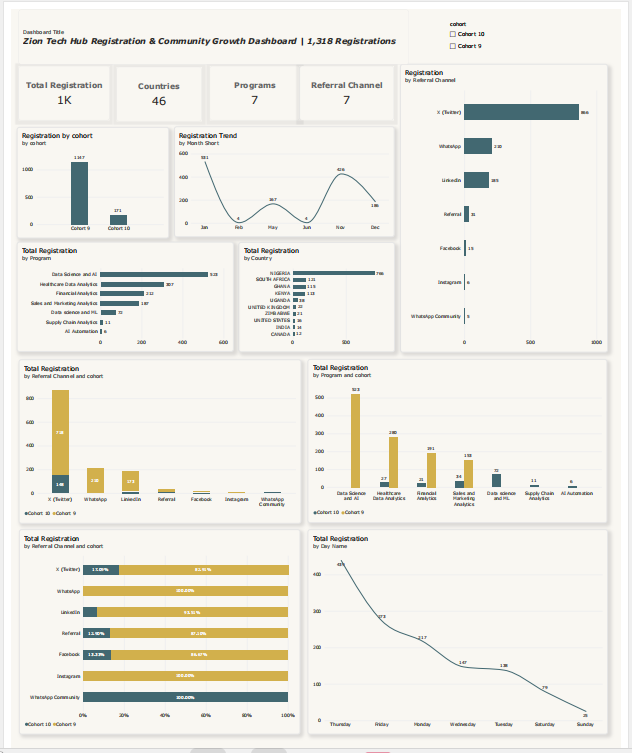

This screenshot's page, from the dashboard's own definition file:
{"tool":"powerbi","page":{"name":"Page 1","canvas":[1920,2400],"ordinal":0},"visuals":[{"type":"cardVisual","fields":{"Data":["Calculated measures.Total Registration"]},"box":[21.9,178.1,287.5,171.9],"z":0},{"type":"cardVisual","fields":{"Data":["Calculated measures.Countries"]},"box":[331.2,181.2,268.8,171.9],"z":1000},{"type":"cardVisual","fields":{"Data":["Calculated measures.Programs"]},"box":[625,178.1,284.4,171.9],"z":2000},{"type":"cardVisual","fields":{"Data":["Calculated measures.Referral Channel"]},"box":[909.4,178.1,296.9,171.9],"z":3000},{"type":"lineChart","fields":{"Y":["Calculated measures.Total Registration"],"Category":["DateTable.Month Short"]},"box":[512.5,368.8,694.5,348.7],"z":4000},{"type":"clusteredBarChart","fields":{"Category":["Combined cohort.Referral Channel"],"Y":["Calculated measures.Total Registration"]},"box":[1225.9,172.3,654.1,908.6],"z":5000},{"type":"clusteredBarChart","fields":{"Y":["Calculated measures.Total Registration"],"Category":["Combined cohort.COUNTRY2"]},"box":[716,734,492,346],"z":6000},{"type":"columnChart","fields":{"Y":["Calculated measures.Total Registration"],"Category":["Combined cohort.cohort"]},"box":[16.7,370.8,479.2,350],"z":7000},{"type":"clusteredBarChart","fields":{"Y":["Calculated measures.Total Registration"],"Category":["Combined cohort.Program"]},"box":[16.7,733.3,683.3,345.8],"z":8000},{"type":"clusteredColumnChart","fields":{"Category":["Combined cohort.Program"],"Y":["Calculated measures.Total Registration"],"Series":["Combined cohort.cohort"]},"box":[934.4,1103.1,943.8,515.6],"z":9000},{"type":"columnChart","fields":{"Category":["Combined cohort.Referral Channel"],"Y":["Calculated measures.Total Registration"],"Series":["Combined cohort.cohort"]},"box":[23.5,1104.5,889.1,517],"z":10000},{"type":"lineChart","fields":{"Y":["Calculated measures.Total Registration"],"Category":["DateTable.Day Name"]},"box":[934,1640,945.8,645.8],"z":11000},{"type":"hundredPercentStackedBarChart","fields":{"Y":["Calculated measures.Total Registration"],"Series":["Combined cohort.cohort"],"Category":["Combined cohort.Referral Channel"]},"box":[24,1640,886,646],"z":11001},{"type":"cardVisual","fields":{"Data":["Calculated measures.Dashboard Title"]},"box":[21.7,0,1860.9,173.9],"z":11002}]}

Visuals, with their boxes on the page's 1920x2400 design canvas (x1, y1, x2, y2). These are canvas units, not pixel positions in the 632x753 screenshot, which may show the page scaled, cropped or inside an application window:
cardVisual - Calculated measures.Total Registration: [left=22, top=178, right=309, bottom=350]
cardVisual - Calculated measures.Countries: [left=331, top=181, right=600, bottom=353]
cardVisual - Calculated measures.Programs: [left=625, top=178, right=909, bottom=350]
cardVisual - Calculated measures.Referral Channel: [left=909, top=178, right=1206, bottom=350]
lineChart - Calculated measures.Total Registration x DateTable.Month Short: [left=512, top=369, right=1207, bottom=718]
clusteredBarChart - Combined cohort.Referral Channel x Calculated measures.Total Registration: [left=1226, top=172, right=1880, bottom=1081]
clusteredBarChart - Calculated measures.Total Registration x Combined cohort.COUNTRY2: [left=716, top=734, right=1208, bottom=1080]
columnChart - Calculated measures.Total Registration x Combined cohort.cohort: [left=17, top=371, right=496, bottom=721]
clusteredBarChart - Calculated measures.Total Registration x Combined cohort.Program: [left=17, top=733, right=700, bottom=1079]
clusteredColumnChart - Combined cohort.Program x Calculated measures.Total Registration: [left=934, top=1103, right=1878, bottom=1619]
columnChart - Combined cohort.Referral Channel x Calculated measures.Total Registration: [left=24, top=1104, right=913, bottom=1622]
lineChart - Calculated measures.Total Registration x DateTable.Day Name: [left=934, top=1640, right=1880, bottom=2286]
hundredPercentStackedBarChart - Calculated measures.Total Registration x Combined cohort.cohort: [left=24, top=1640, right=910, bottom=2286]
cardVisual - Calculated measures.Dashboard Title: [left=22, top=0, right=1883, bottom=174]
